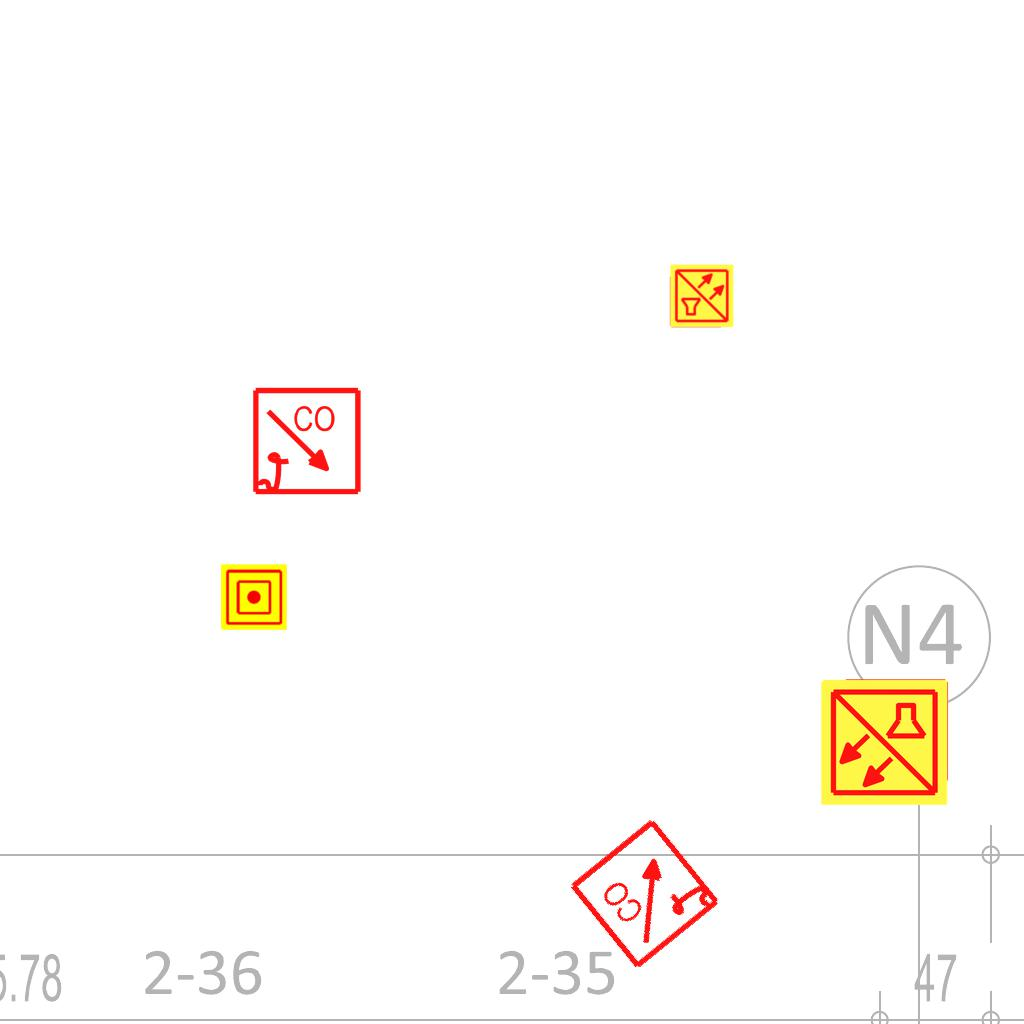NAM-Nichtautomatischer_Melder: (221, 564, 287, 630)
OKW_Multisensormelder_(Kombination_optischer_Rauch-Kahlenmonoxid_Waerme-Melder): (818, 676, 950, 808), (669, 263, 735, 329)
ROA_Rauchmelder_optisch_mit_Signalgeber_(Sockelsirene): (566, 813, 725, 972), (251, 386, 364, 499)
